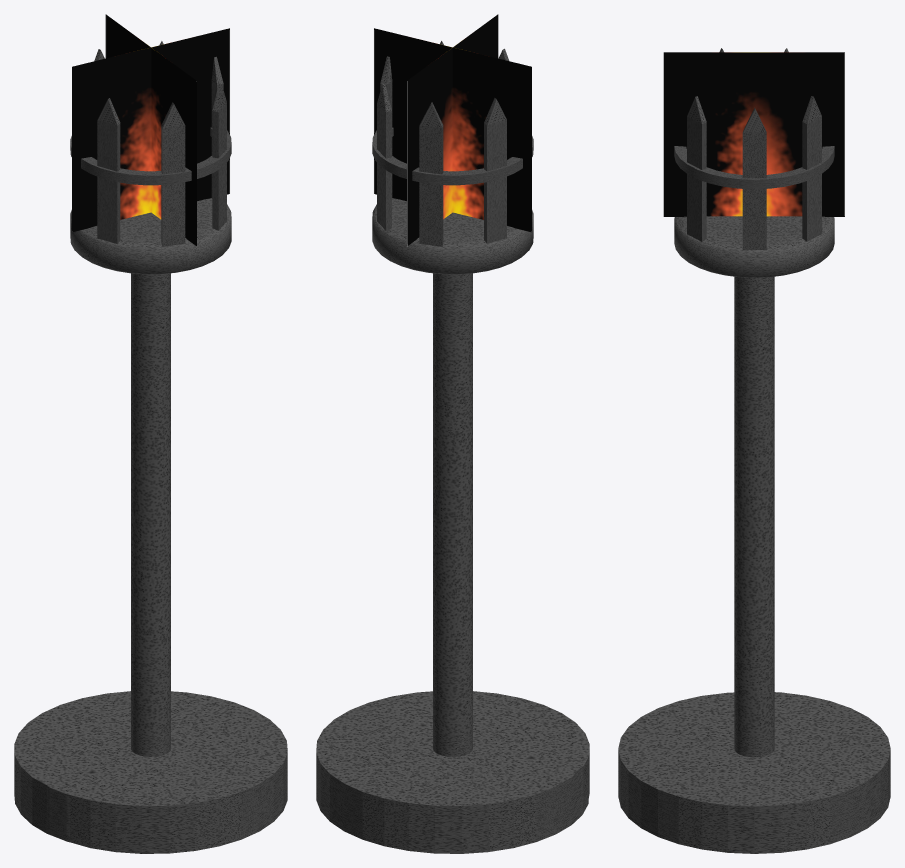
The model's file is torch.glb.
3 renders of one model, left to right at view 1: azimuth 30°, elevation 25°; view 2: azimuth 150°, elevation 25°; view 3: azimuth 270°, elevation 25°, orthographic.
Parts seen in each view (by area): view 1: Cylinder.003, Plane, Cube; view 2: Cylinder.003, Plane, Cube; view 3: Cylinder.003, Plane, Cube.
Boxes of the visible parts, x1,y1,x2,y2 form: Cylinder.003: [14, 127, 287, 853]; Plane: [72, 14, 230, 246]; Cube: [94, 41, 226, 246]; Cylinder.003: [316, 127, 589, 853]; Plane: [373, 14, 531, 246]; Cube: [377, 41, 509, 246]; Cylinder.003: [618, 146, 890, 853]; Plane: [663, 52, 845, 216]; Cube: [687, 48, 821, 250].
Size of the model in its own units: 0.1784 by 0.5374 by 0.1784.
Materials: 2 (2 with a texture image).
